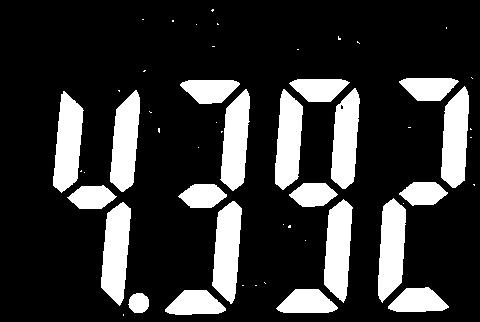2: (373, 76, 473, 313)
3: (160, 74, 253, 319)
4: (49, 89, 142, 306)
9: (271, 75, 362, 315)
dot: (127, 291, 154, 313)
